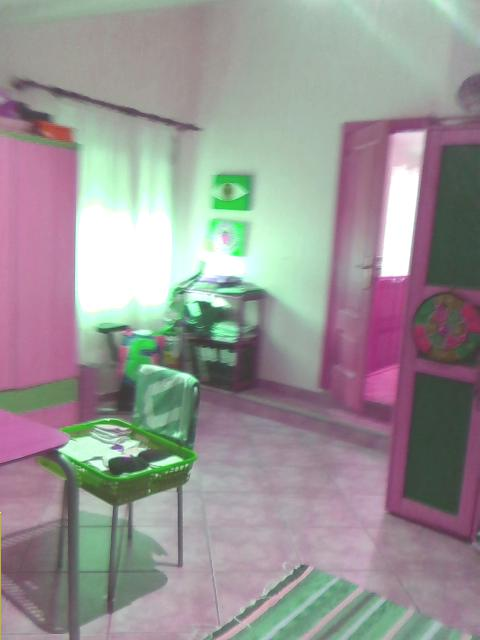semi_door: (317, 114, 440, 410)
